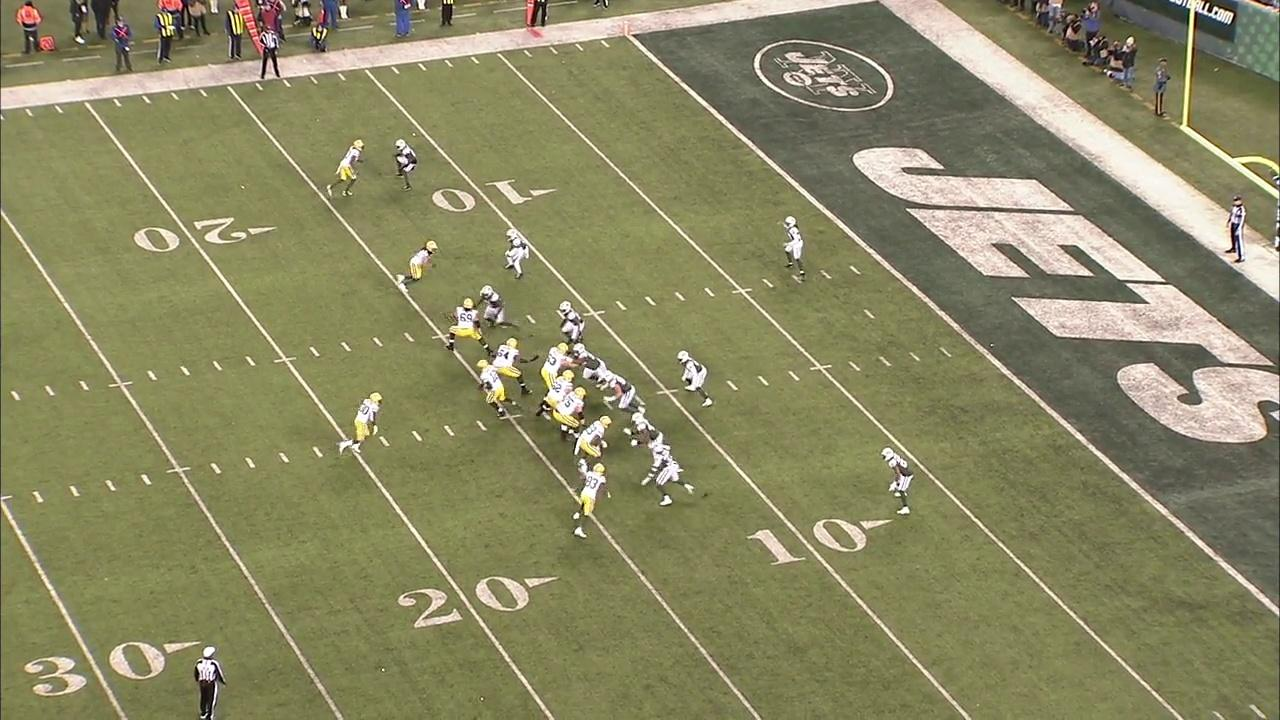player: (641, 441, 699, 510), (570, 463, 614, 542), (336, 391, 386, 459), (475, 358, 525, 422), (444, 295, 493, 357), (325, 136, 369, 202), (491, 338, 539, 397), (879, 447, 918, 516), (599, 367, 647, 421), (675, 350, 717, 410), (570, 340, 619, 391), (552, 383, 590, 446), (573, 412, 613, 471), (399, 237, 442, 291), (625, 411, 671, 461), (474, 285, 519, 332), (539, 341, 574, 397), (778, 214, 807, 281), (541, 370, 575, 427), (389, 136, 419, 195), (499, 225, 530, 280), (557, 299, 588, 348)
ref: (190, 641, 227, 720), (1226, 191, 1249, 267), (254, 26, 285, 79)
